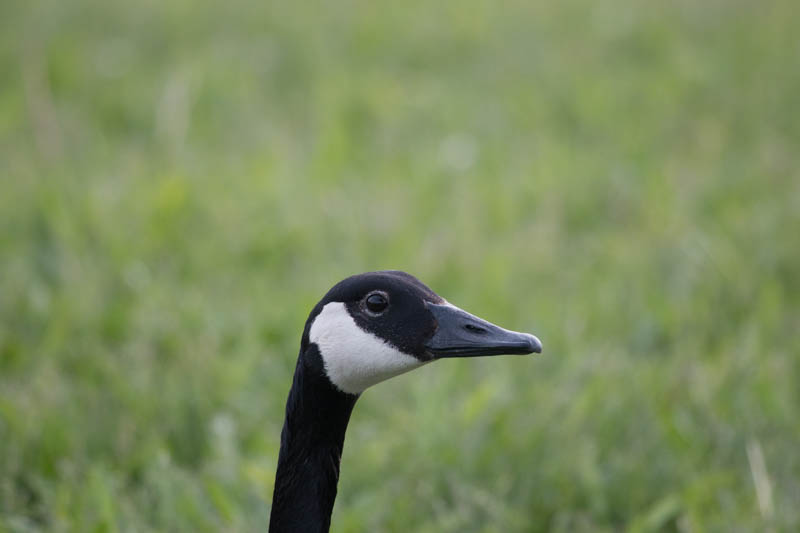goose-head: (300, 270, 543, 394)
